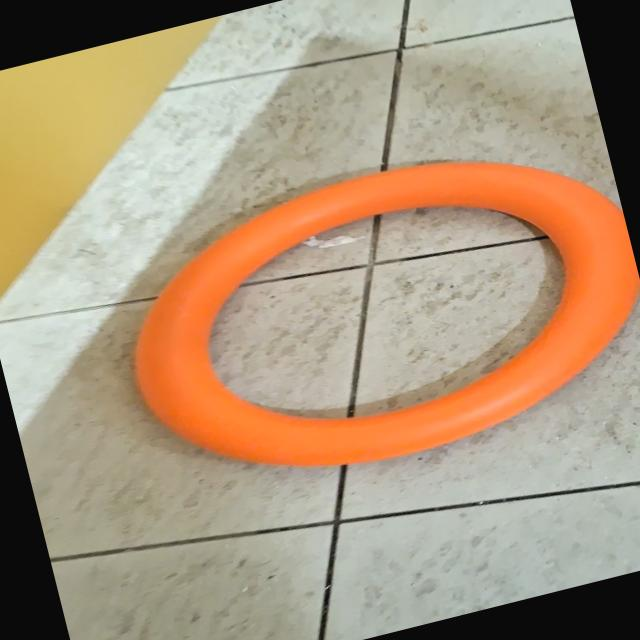note: (99, 114, 640, 514)
